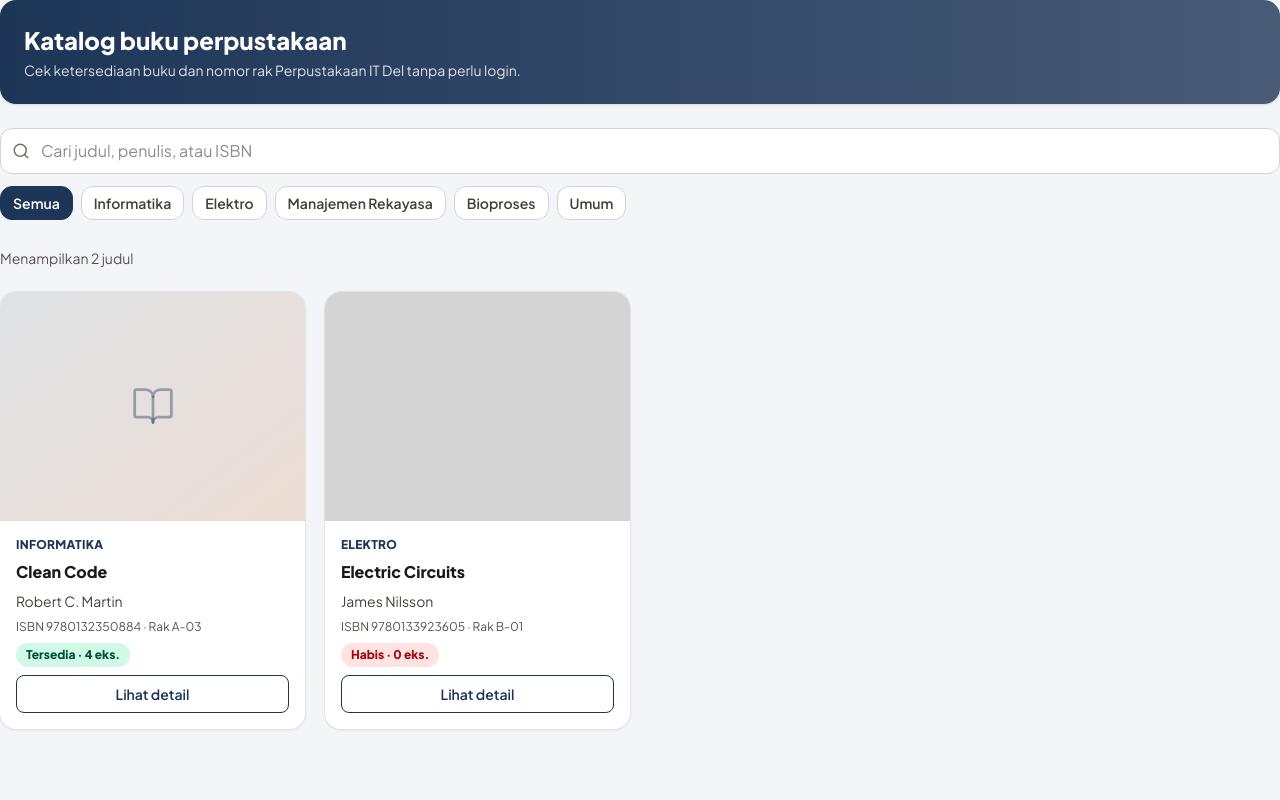
Test: CatalogPage (publik) › opens and closes the book detail dialog
Step 1. Click the button with aria-label "Lihat detail Clean Code" → (152, 694), box x1=16 y1=675 x2=289 y2=713
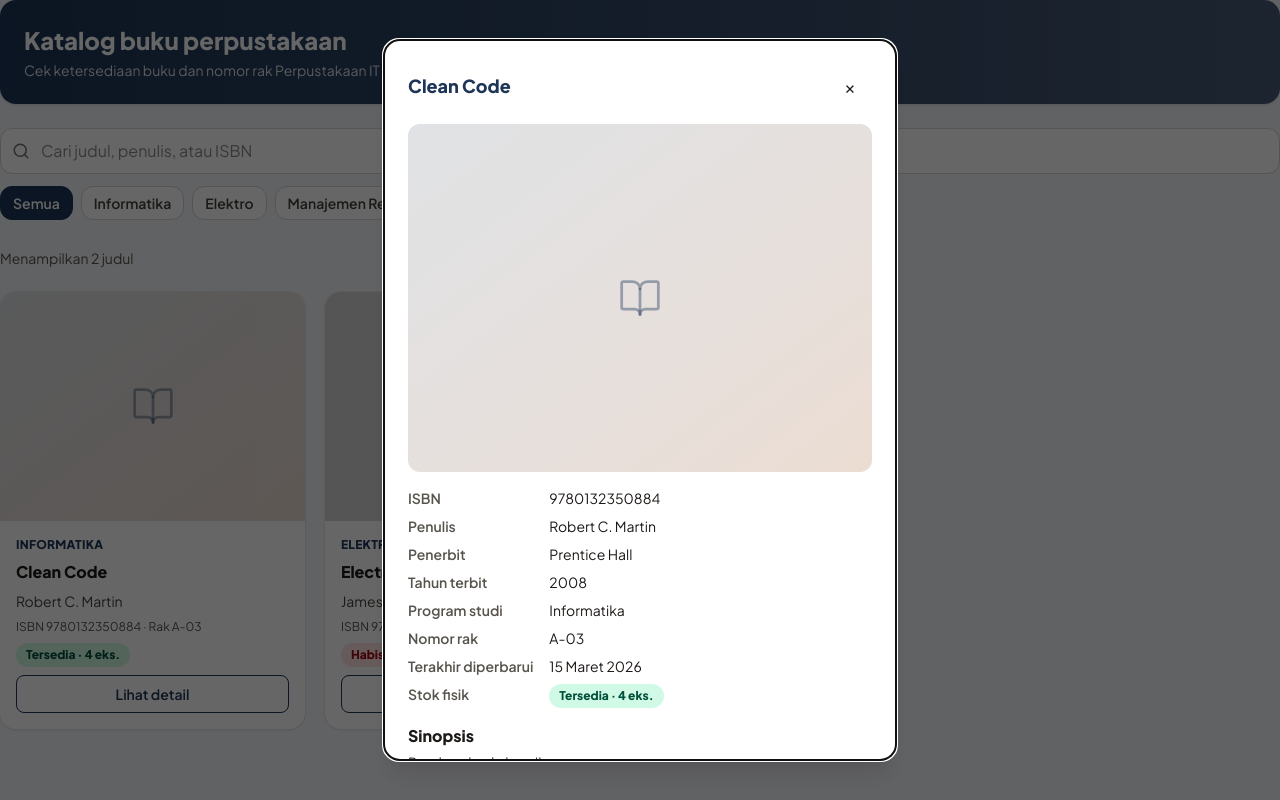
Expected: the dialog "Clean Code" shows "Panduan kode bersih.", x1=408 y1=753 x2=550 y2=771
Step 2. Click the button named "Tutup" → (850, 86), box x1=828 y1=64 x2=872 y2=108
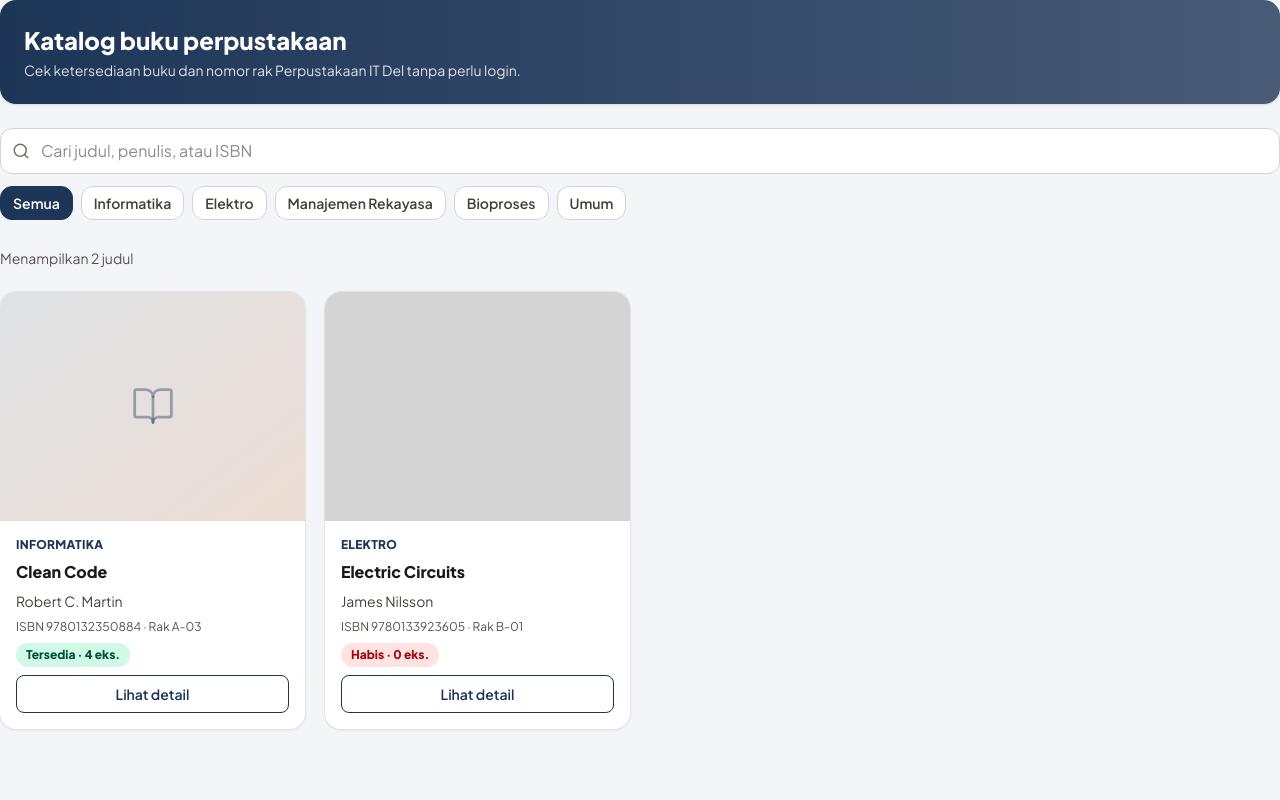
Expected: the dialog is gone
